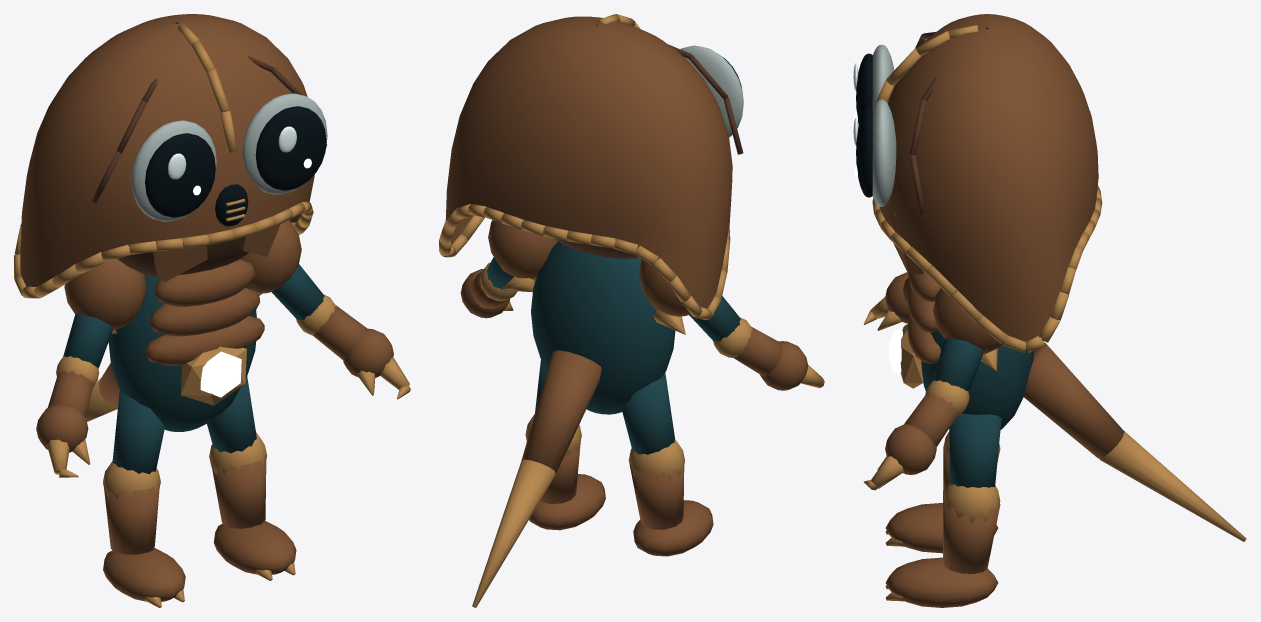
File: kabutogani.glb
3 views of the same model, side by side, from view 1: azimuth 30°, elevation 25°; view 2: azimuth 150°, elevation 25°; view 3: azimuth 270°, elevation 25° (orthographic). The views are drawn at different scales.
Parts seen in each view (by area): view 1: head_metal, body_metal, arm_l_metal, leg_l_metal, leg_r_metal, arm_r_metal, body_paint, leg_l_paint, leg_r_paint, arm_l_paint, arm_r_paint, body_energy (+1 smaller); view 2: head_metal, body_paint, body_metal, leg_l_metal, arm_l_metal, arm_r_metal, leg_r_metal, leg_l_paint, arm_l_paint; view 3: head_metal, body_metal, leg_r_metal, arm_r_metal, body_paint, leg_r_paint, leg_l_metal, arm_r_paint, arm_l_metal.
Part boxes in pixels (x1,y1,x2,y2): head_metal: (14,14,327,298); body_metal: (85,259,264,421); arm_l_metal: (36,259,146,477); leg_l_metal: (103,461,185,607); leg_r_metal: (209,432,296,580); arm_r_metal: (240,220,410,399); body_paint: (108,275,256,431); leg_l_paint: (112,390,164,474); leg_r_paint: (207,376,256,453); arm_l_paint: (63,313,113,368); arm_r_paint: (271,264,324,320); body_energy: (200,351,241,397); head_metal: (439,14,743,319); body_paint: (531,241,675,414); body_metal: (472,276,685,607); leg_l_metal: (628,439,713,556); arm_l_metal: (638,259,824,390); arm_r_metal: (460,220,557,318); leg_r_metal: (525,414,605,530); leg_l_paint: (622,373,674,454); arm_l_paint: (689,296,740,342); head_metal: (856,14,1102,352); body_metal: (900,270,1246,541); leg_r_metal: (885,483,1000,607); arm_r_metal: (863,288,1003,490); body_paint: (921,331,1034,430); leg_r_paint: (949,413,1001,487); leg_l_metal: (885,431,1000,553); arm_r_paint: (932,337,983,392); arm_l_metal: (863,272,909,330).
Size of the model in its own units: 1.6 by 2.34 by 1.52.
